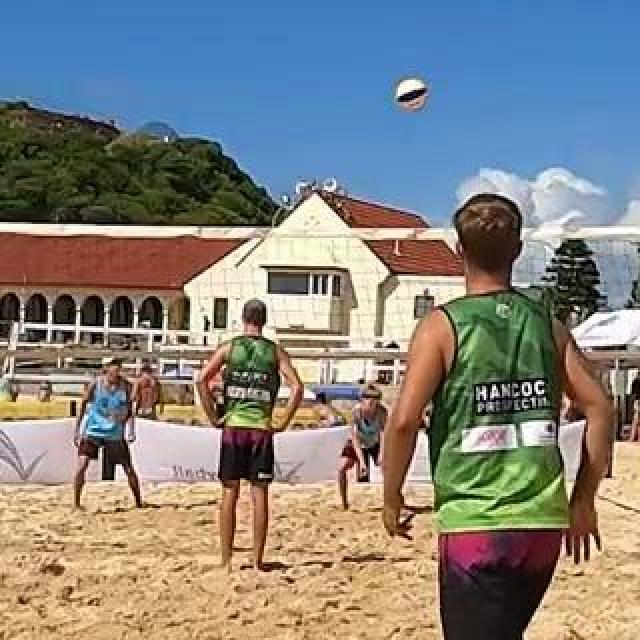volleyball: (396, 80, 428, 112)
